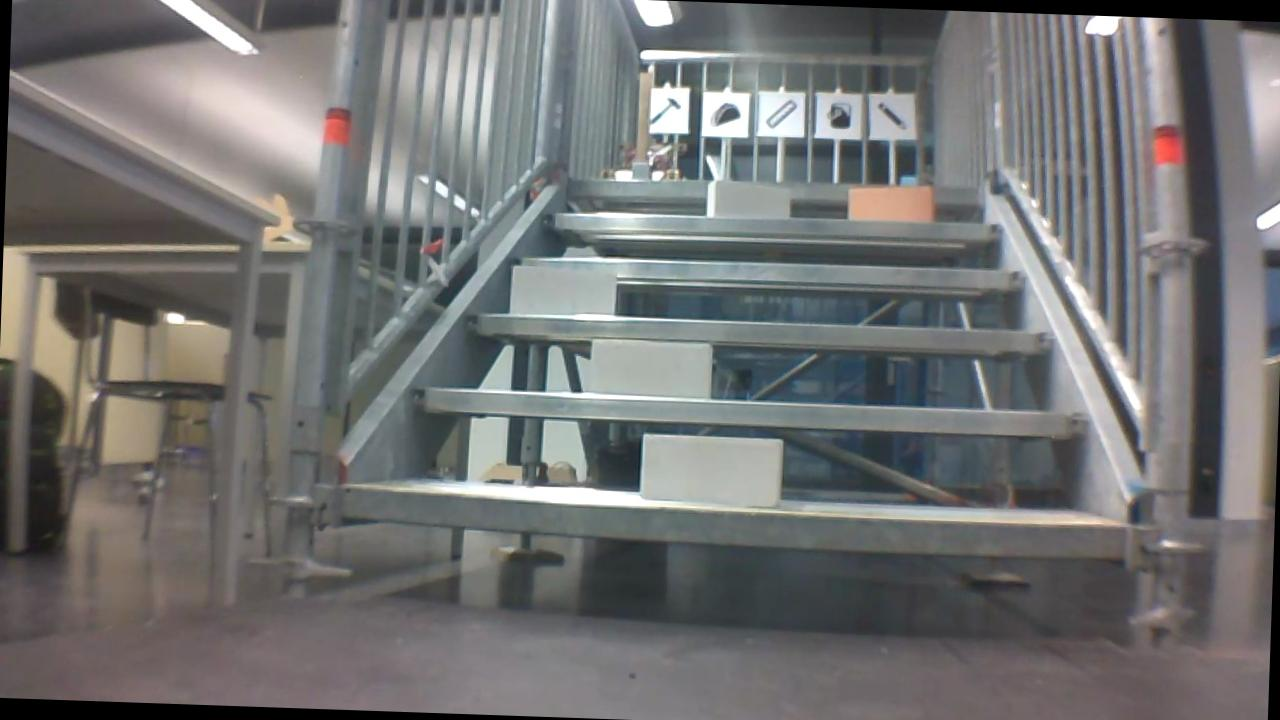brick: (640, 434, 780, 505), (590, 339, 711, 397), (510, 265, 616, 313), (851, 185, 932, 220), (708, 183, 790, 217)
bucket: (820, 96, 855, 131)
edge: (342, 487, 1132, 559), (414, 388, 1087, 436), (470, 312, 1053, 354), (513, 253, 1024, 288), (542, 207, 999, 242), (566, 173, 980, 204)
hammer: (652, 91, 682, 126)
pencil: (872, 98, 912, 133)
ruler: (763, 94, 799, 132)
steps: (330, 159, 1150, 570)
taco: (708, 97, 744, 131)
